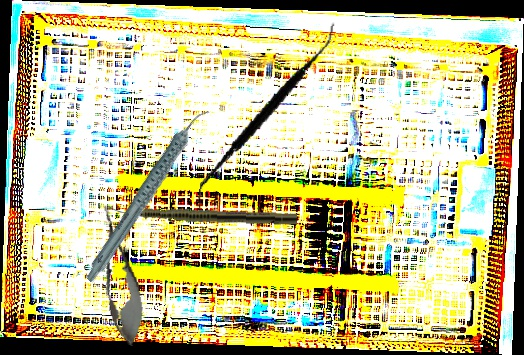Handpiece: (56, 106, 241, 285), (108, 204, 298, 226)
Micro Scissor: (87, 201, 152, 350)
Spatula Surgical: (196, 6, 337, 224)
